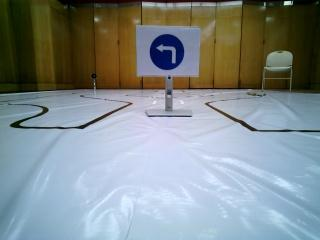left: (139, 26, 198, 77)
